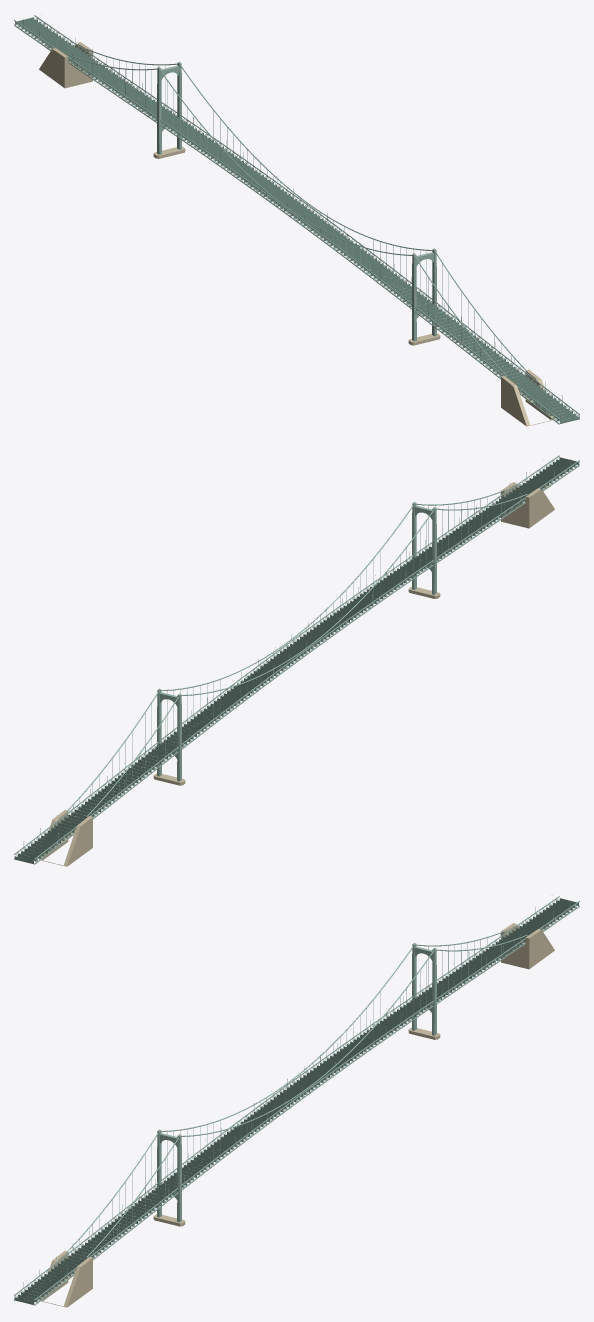
The model's file is phl-walt-whitman-bridge.detail.glb.
3 renders of one model, top to bottom at view 1: azimuth 30°, elevation 25°; view 2: azimuth 150°, elevation 25°; view 3: azimuth 330°, elevation 25°, orthographic.
Visible parts, largest first — view 1: Walt Whitman Bridge; view 2: Walt Whitman Bridge; view 3: Walt Whitman Bridge.
Part boxes in pixels (<box>): Walt Whitman Bridge: <box>14,14,579,426</box>; Walt Whitman Bridge: <box>14,455,579,866</box>; Walt Whitman Bridge: <box>14,895,579,1307</box>.
Bounding box in the file's own units: 40 × 118 × 1301.
